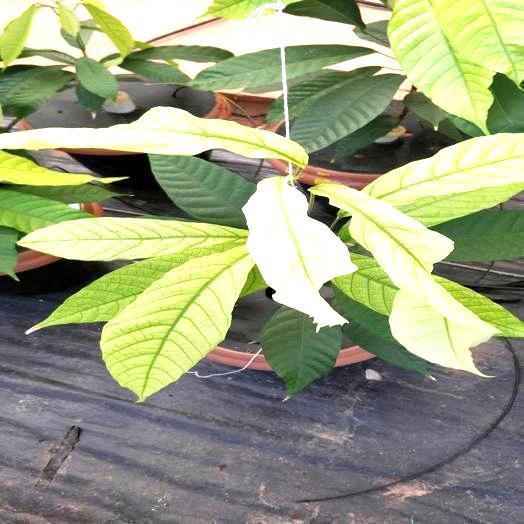Healthy Leaf: (291, 71, 400, 152), (333, 287, 426, 373), (149, 155, 255, 226), (261, 306, 341, 395), (433, 210, 523, 261), (192, 48, 280, 89), (0, 67, 70, 117), (288, 45, 373, 78), (128, 45, 233, 62), (76, 57, 116, 99)
Iron: (313, 184, 482, 326), (102, 248, 253, 400), (0, 107, 307, 167), (242, 176, 356, 330), (388, 0, 491, 130), (34, 254, 188, 328), (366, 133, 523, 205), (21, 217, 246, 260), (436, 0, 523, 82), (0, 189, 87, 232), (335, 256, 396, 315), (0, 151, 99, 186), (84, 2, 134, 56), (0, 7, 37, 66), (59, 4, 79, 37)
